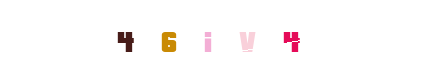4: (86, 0, 166, 80), (252, 0, 332, 80)
6: (128, 0, 208, 80)
I: (183, 0, 263, 80)
V: (185, 0, 265, 80)
